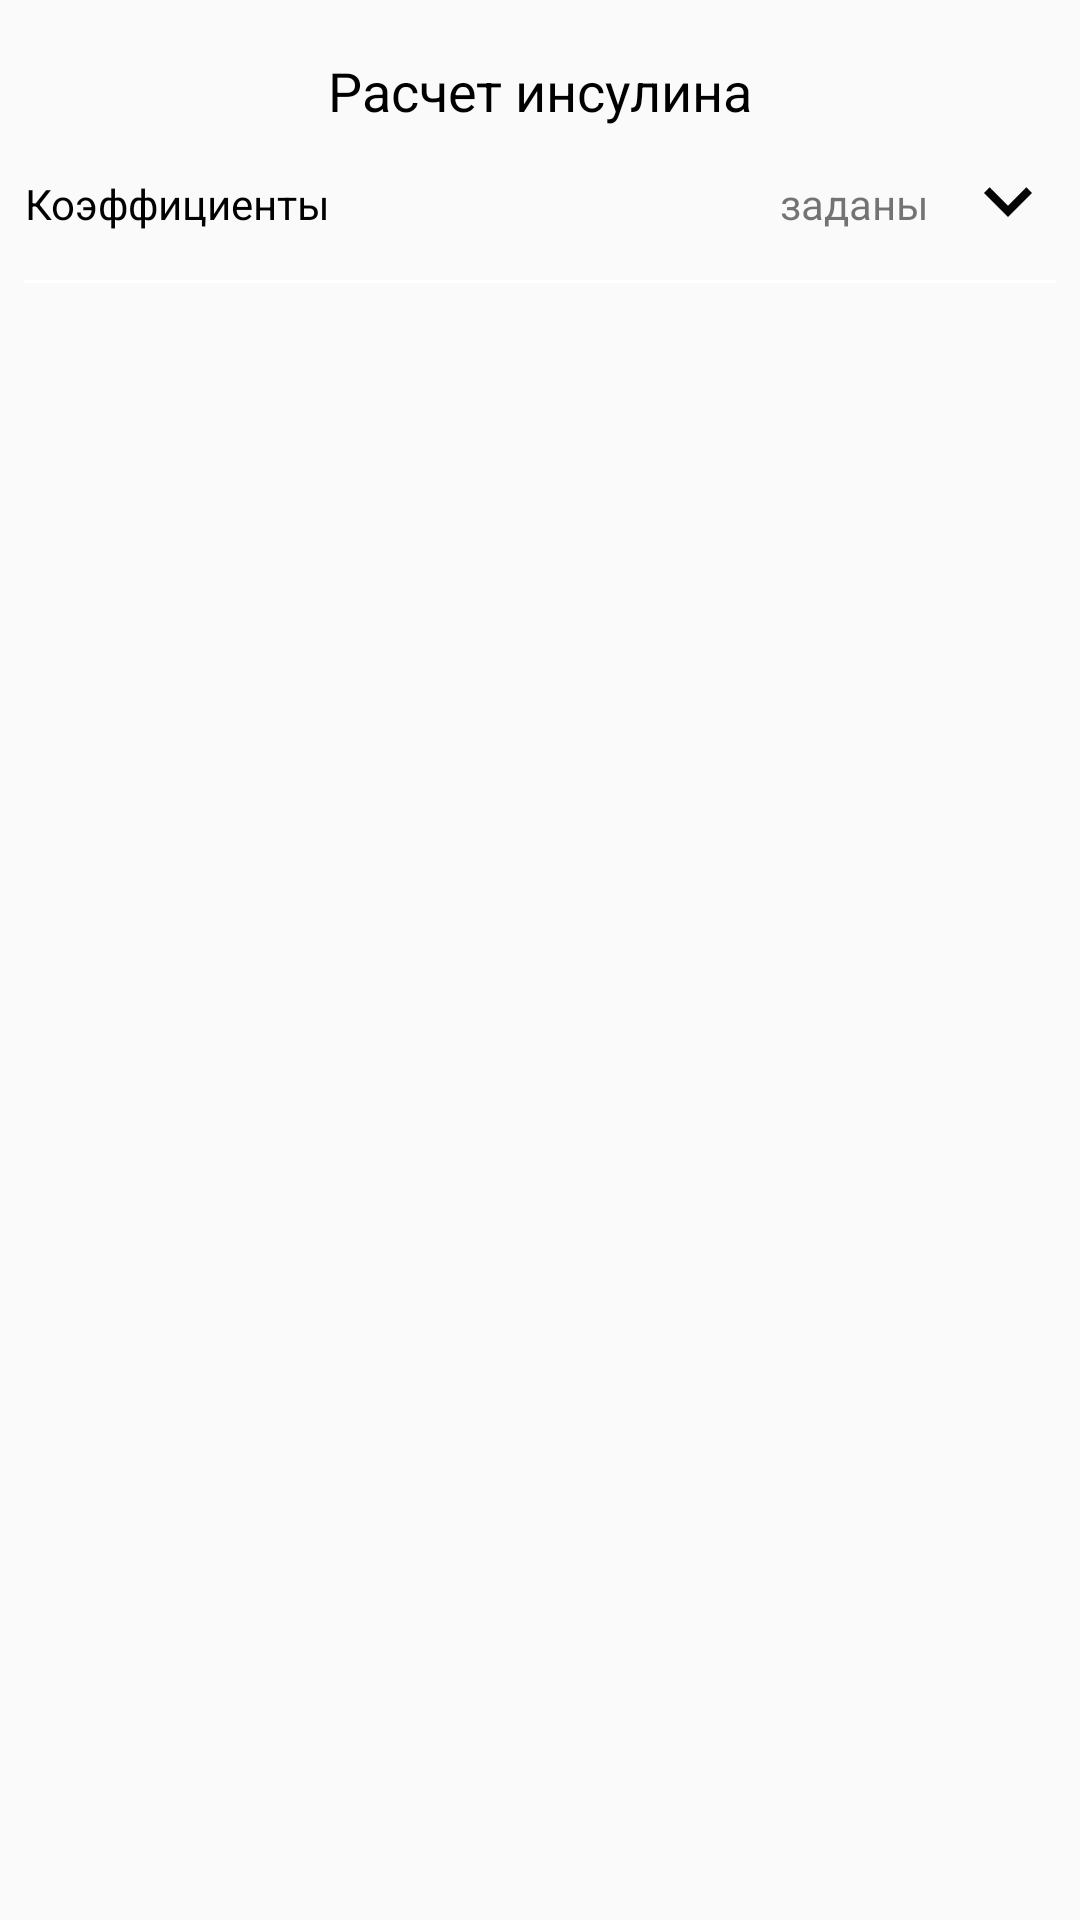

Screen size 1080 x 1920. Icon name, then its center in pixels as point (x, y):
стрелка вниз: point (1008, 202)
